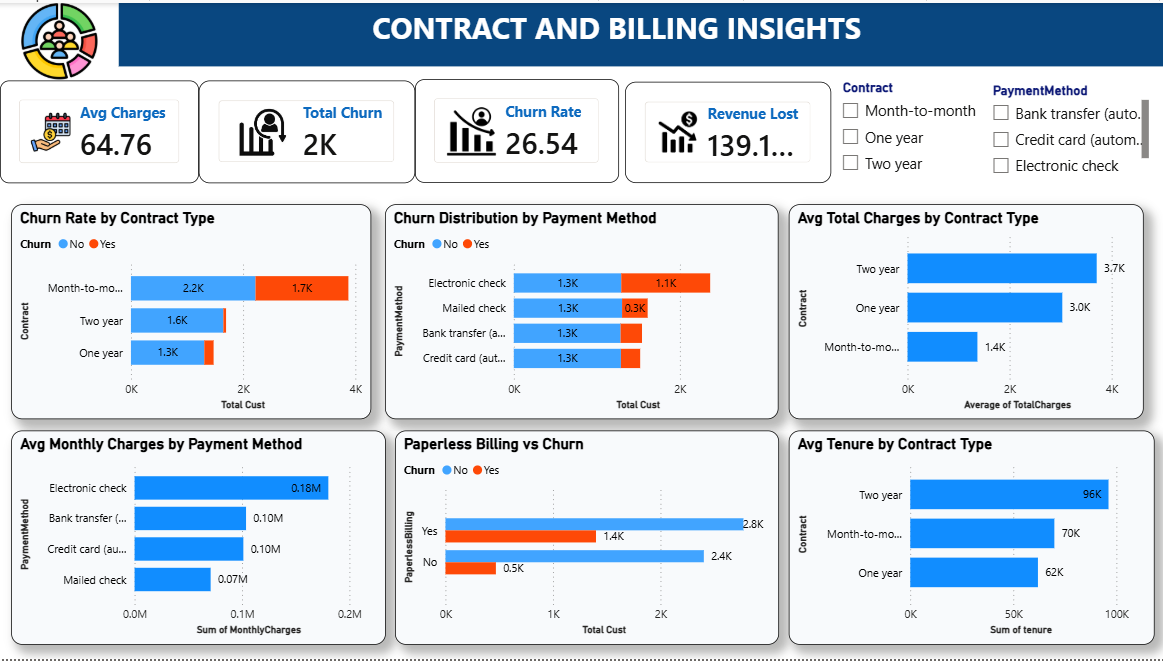

What the dashboard file says about the page in this screenshot:
{"tool":"powerbi","page":{"name":"Page 3","canvas":[1280,720],"ordinal":1},"visuals":[{"type":"barChart","title":" Churn Rate by Contract Type","fields":{"Category":["CustomerChurn.Contract"],"Y":["CustomerChurn.Total Customers"],"Series":["CustomerChurn.Churn"]},"box":[12.3,220.9,395.2,236],"z":0},{"type":"barChart","title":"Churn Distribution by Payment Method","fields":{"Category":["CustomerChurn.PaymentMethod"],"Y":["CustomerChurn.Total Customers"],"Series":["CustomerChurn.Churn"]},"box":[422.6,220.9,432.2,236],"z":1000},{"type":"clusteredBarChart","title":"Avg Total Charges by Contract Type","fields":{"Category":["CustomerChurn.Contract"],"Y":["Avg(CustomerChurn.TotalCharges)"]},"box":[865.9,220.9,389.7,236],"z":2000},{"type":"clusteredBarChart","title":"Avg Monthly Charges by Payment Method","fields":{"Category":["CustomerChurn.PaymentMethod"],"Y":["Sum(CustomerChurn.MonthlyCharges)"]},"box":[12.2,468.9,410.8,235.1],"z":3000},{"type":"clusteredBarChart","title":"Paperless Billing vs Churn","fields":{"Category":["CustomerChurn.PaperlessBilling"],"Y":["CustomerChurn.Total Customers"],"Series":["CustomerChurn.Churn"]},"box":[433.8,468.9,421.6,235.1],"z":4000},{"type":"clusteredBarChart","title":"Avg Tenure by Contract Type","fields":{"Category":["CustomerChurn.Contract"],"Y":["Sum(CustomerChurn.tenure)"]},"box":[866.2,468.9,401.4,235.1],"z":5000},{"type":"slicer","fields":{"Values":["CustomerChurn.Contract"]},"box":[912.5,79.6,164.7,118],"z":6000},{"type":"slicer","fields":{"Values":["CustomerChurn.PaymentMethod"]},"box":[1077.2,82.3,189.4,115.3],"z":7000},{"type":"cardVisual","fields":{"Data":["CustomerChurn.Avg Monthly Charges"]},"box":[0,85.1,218.2,112.5],"z":8000},{"type":"cardVisual","fields":{"Data":["CustomerChurn.Revenue Lost"]},"box":[686.1,86.4,240.1,111.1],"z":9000},{"type":"cardVisual","fields":{"Data":["CustomerChurn.Total Churned"]},"box":[218.2,85.1,237.4,112.5],"z":10000},{"type":"cardVisual","fields":{"Data":["CustomerChurn.Churn Rate"]},"box":[455.6,83.7,223.7,113.9],"z":11000},{"type":"textbox","box":[130.4,0,1149.9,70],"z":12000},{"type":"image","box":[0,0,130.4,83.7],"z":13000}]}

Visuals, with their boxes in screenshot pixels (x1, y1, x2, y2), scaled from the page's 1280x720 canvas onto the 1163x661 screenshot:
" Churn Rate by Contract Type" barChart: BBox(11, 203, 370, 419)
"Churn Distribution by Payment Method" barChart: BBox(384, 203, 777, 419)
"Avg Total Charges by Contract Type" clusteredBarChart: BBox(787, 203, 1141, 419)
"Avg Monthly Charges by Payment Method" clusteredBarChart: BBox(11, 430, 384, 646)
"Paperless Billing vs Churn" clusteredBarChart: BBox(394, 430, 777, 646)
"Avg Tenure by Contract Type" clusteredBarChart: BBox(787, 430, 1152, 646)
slicer - CustomerChurn.Contract: BBox(829, 73, 979, 181)
slicer - CustomerChurn.PaymentMethod: BBox(979, 76, 1151, 181)
cardVisual - CustomerChurn.Avg Monthly Charges: BBox(0, 78, 198, 181)
cardVisual - CustomerChurn.Revenue Lost: BBox(623, 79, 842, 181)
cardVisual - CustomerChurn.Total Churned: BBox(198, 78, 414, 181)
cardVisual - CustomerChurn.Churn Rate: BBox(414, 77, 617, 181)
textbox: BBox(118, 0, 1162, 64)
image: BBox(0, 0, 118, 77)
